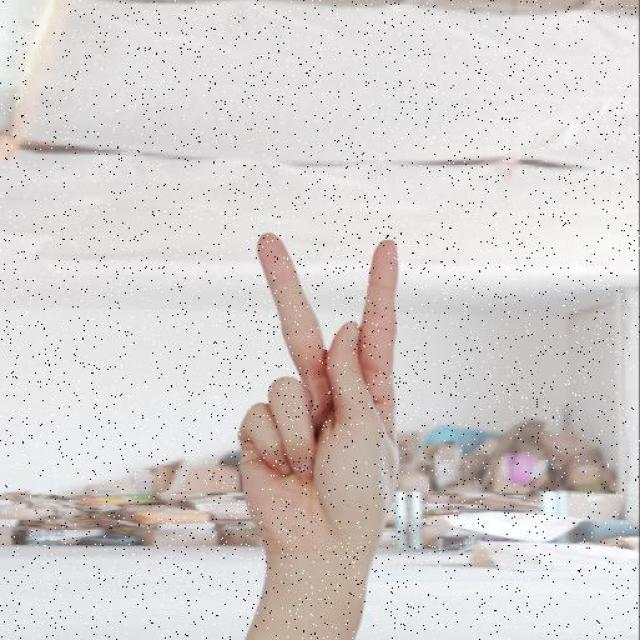K: (200, 212, 424, 640)
